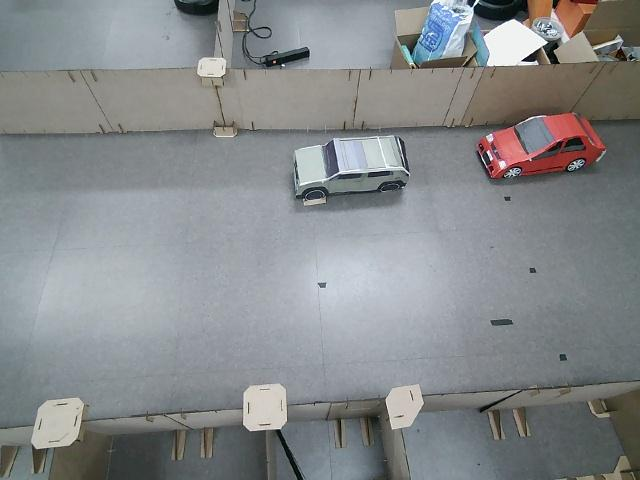car: (473, 110, 613, 189), (284, 134, 419, 208)
